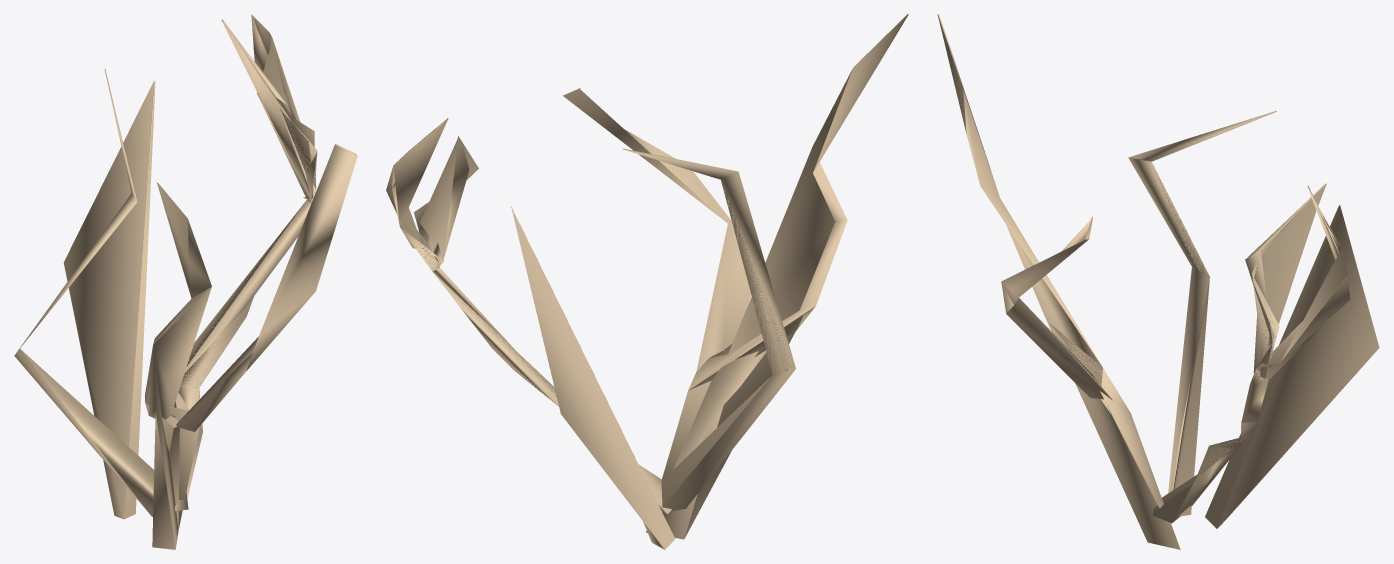
Rendered from DriedShrub_Culled.fbx.
The picture shows the model from 3 angles, left to right: view 1: azimuth 30°, elevation 25°; view 2: azimuth 150°, elevation 25°; view 3: azimuth 270°, elevation 25°; orthographic projection.
Visible parts, largest first — view 1: DriedShrub; view 2: DriedShrub; view 3: DriedShrub.
Boxes of the visible parts, left/top/right/bottom form: DriedShrub: left=14, top=14, right=357, bottom=549; DriedShrub: left=386, top=14, right=908, bottom=549; DriedShrub: left=937, top=14, right=1379, bottom=549.
Size of the model in its own units: 65.56 by 86.37 by 73.57.
